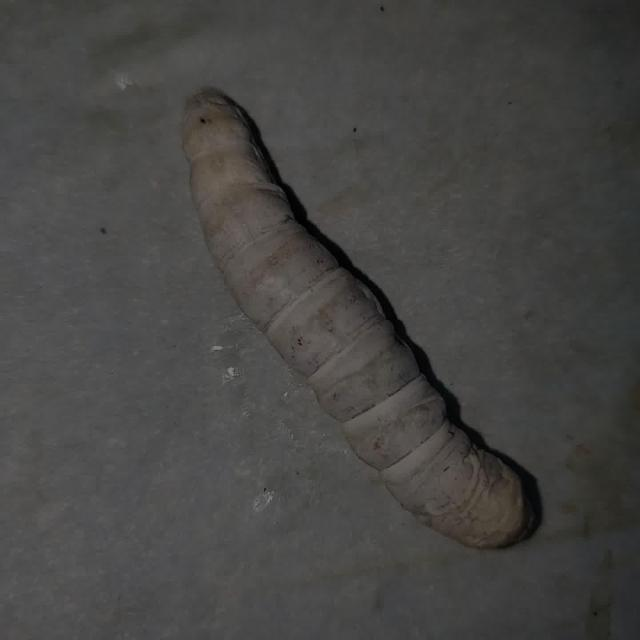Grasserie: (140, 64, 560, 573)
